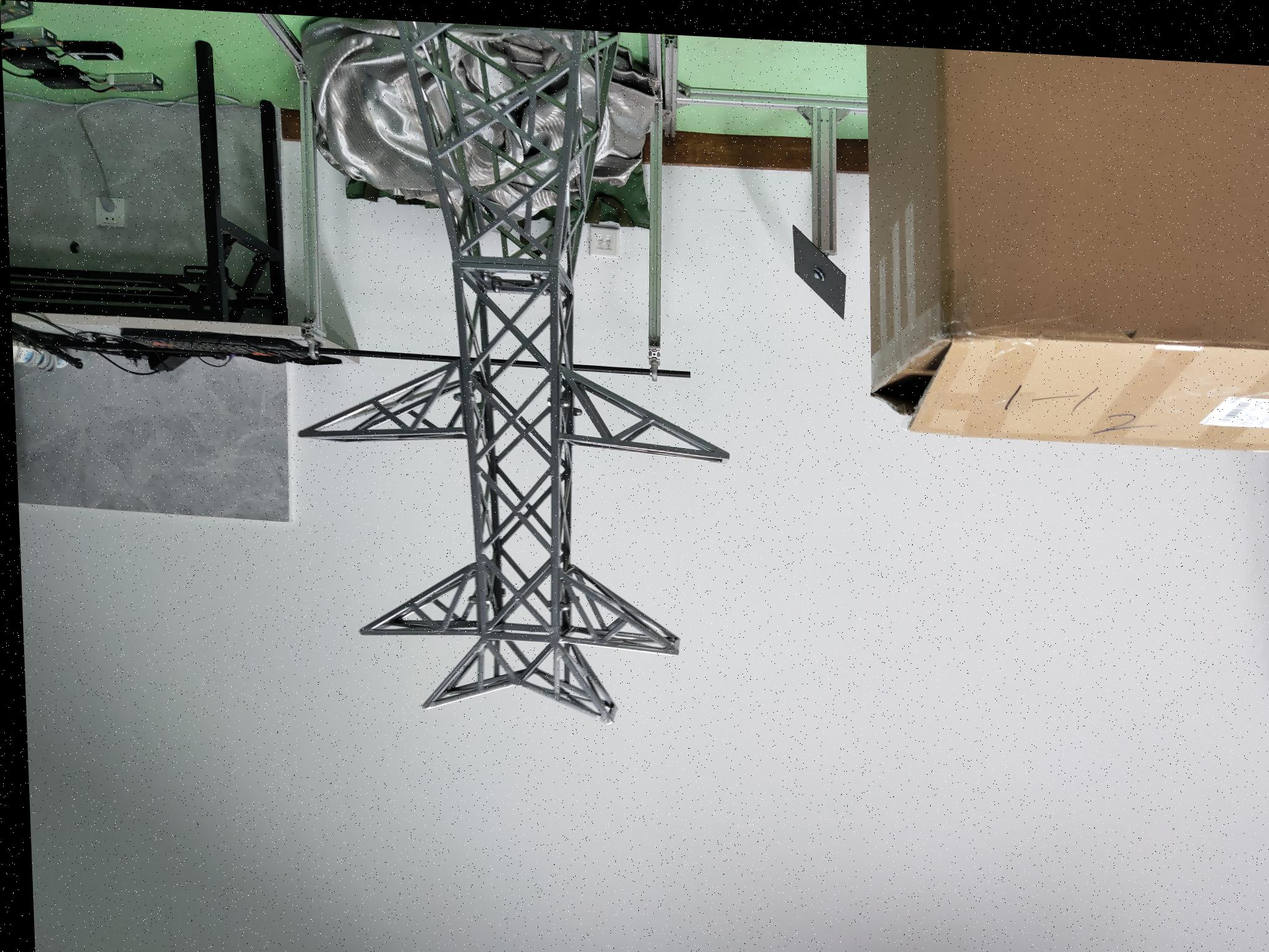tower: (301, 16, 741, 731)
